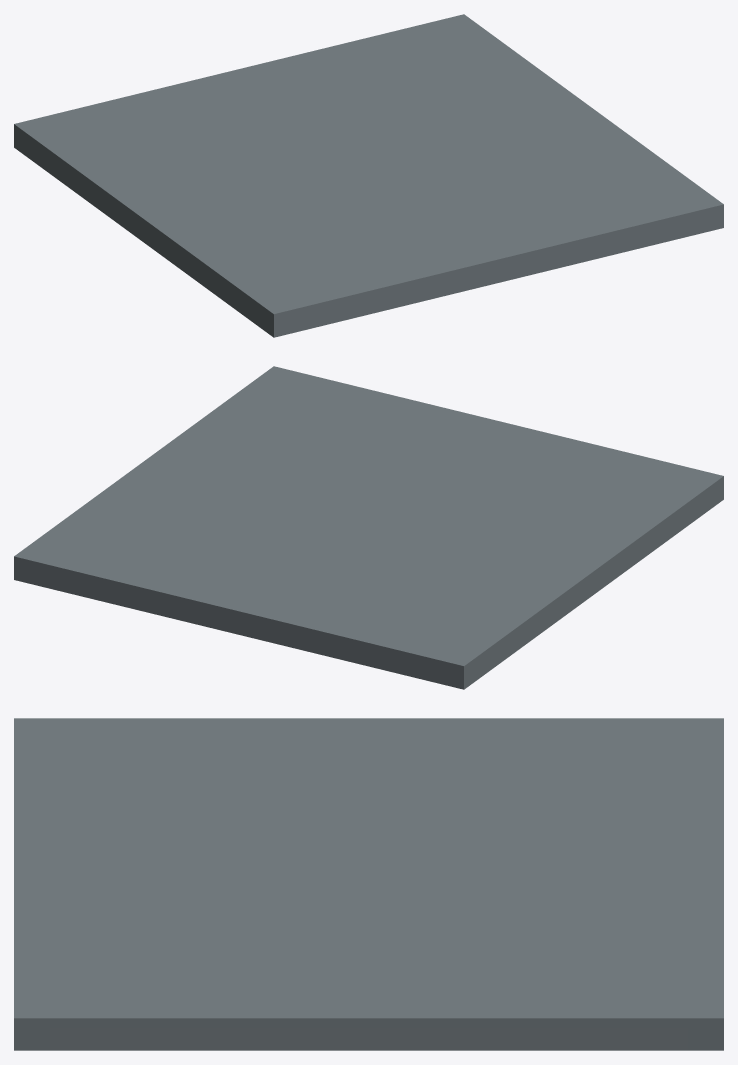
3 views of the same model, one above another, from view 1: azimuth 30°, elevation 25°; view 2: azimuth 150°, elevation 25°; view 3: azimuth 270°, elevation 25° (orthographic). The views are drawn at different scales.
Parts seen in each view (by area): view 1: base_Cube.953; view 2: base_Cube.953; view 3: base_Cube.953.
Boxes of the visible parts, left/top/right/bottom form: base_Cube.953: left=14, top=14, right=723, bottom=337; base_Cube.953: left=14, top=366, right=723, bottom=689; base_Cube.953: left=14, top=718, right=723, bottom=1050.
Size of the model in its own units: 2 by 0.1 by 2.
Materials: 1 (1 with a texture image).
